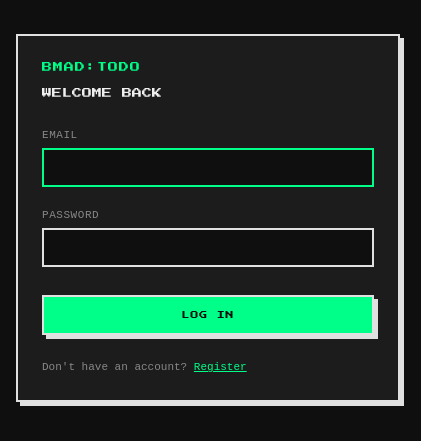
it: LoginPage › shows generic error message on non-401 server failure
In the field labelled "Email": (208, 168) 42,148 -> 374,187, type "user@test.com"
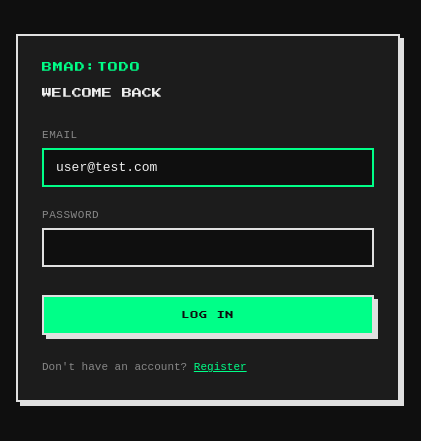
In the password field labelled "Password": (208, 248) 42,228 -> 374,267, type "password123"
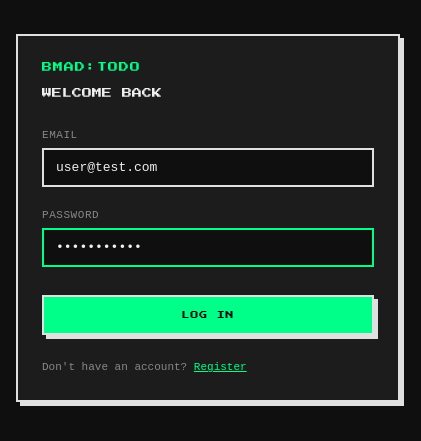
Click the button "LOG IN": click(208, 315) 42,295 -> 374,335
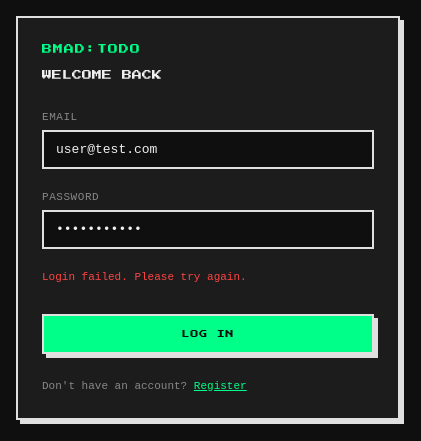
Expected: the message shows "Login failed", 42,271 -> 247,283
